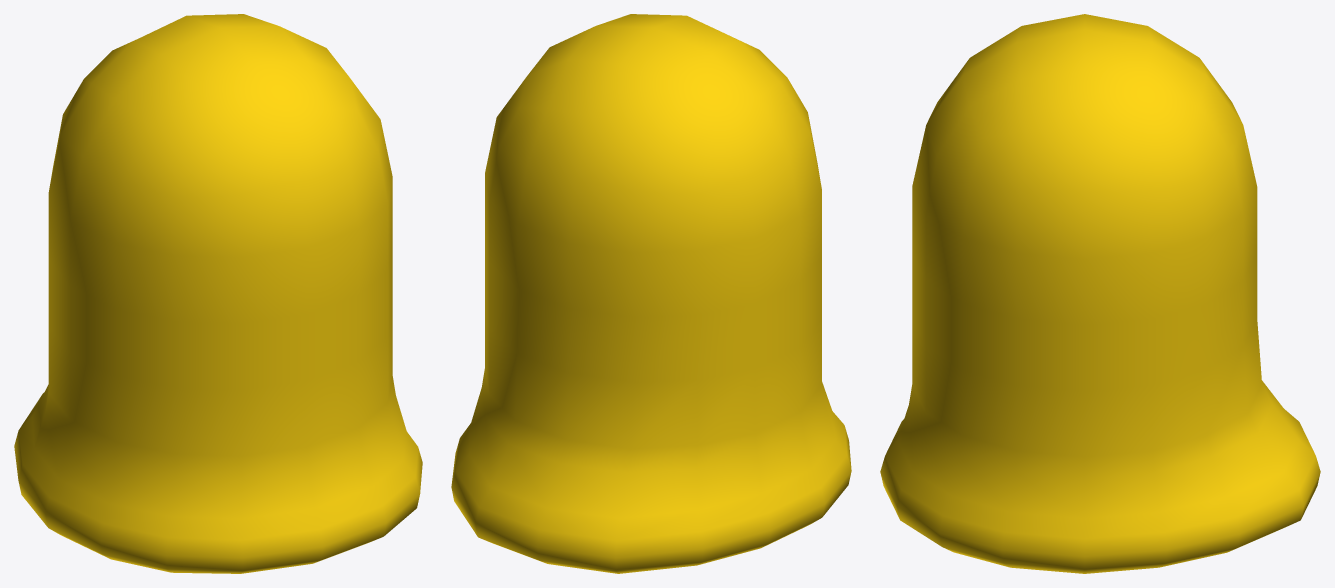
File: Blob1.fbx
3 renders of one model, left to right at view 1: azimuth 30°, elevation 25°; view 2: azimuth 150°, elevation 25°; view 3: azimuth 270°, elevation 25°, orthographic. The views are drawn at different scales.
Visible parts, largest first — view 1: BlobMicro; view 2: BlobMicro; view 3: BlobMicro.
Part boxes in pixels (bbox=[...]): BlobMicro: bbox=[14, 14, 422, 573]; BlobMicro: bbox=[451, 14, 851, 573]; BlobMicro: bbox=[880, 14, 1320, 573].
Bounding box in the file's own units: 34.62 × 44.31 × 37.9.
